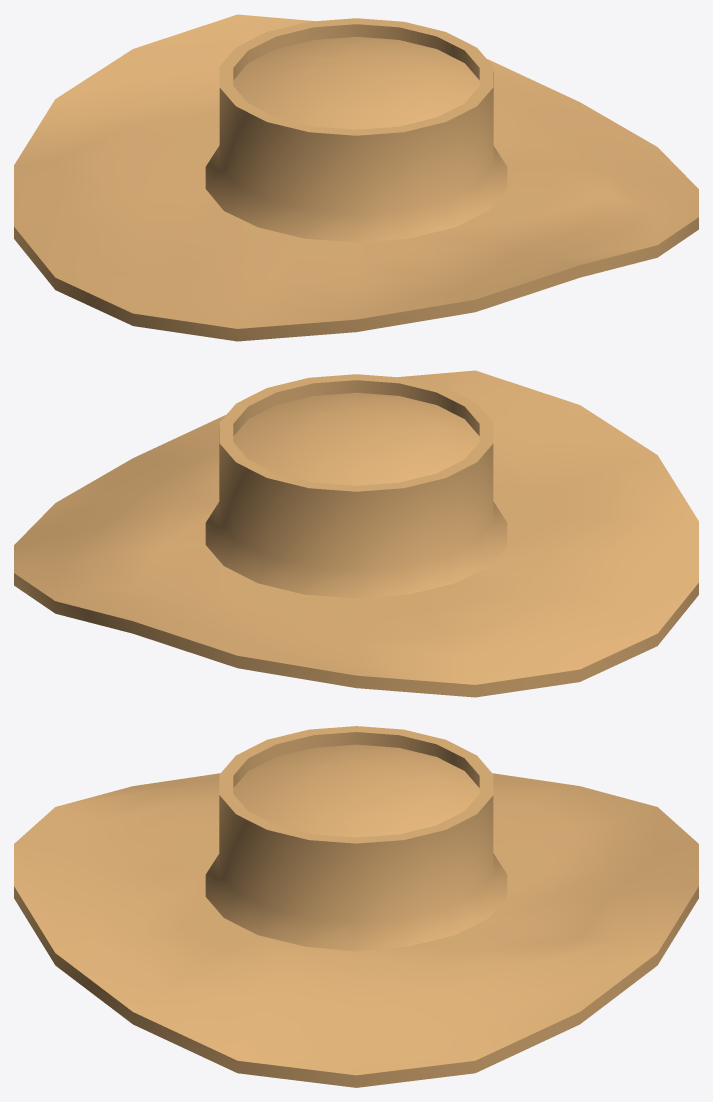
The model's file is cowboy-hat-get-gains.fbx.
The picture shows the model from 3 angles, top to bottom: view 1: azimuth 30°, elevation 25°; view 2: azimuth 150°, elevation 25°; view 3: azimuth 270°, elevation 25°; orthographic projection.
Parts seen in each view (by area): view 1: Hat; view 2: Hat; view 3: Hat.
Boxes of the visible parts, box(x1,y1,x2,y2) form: Hat: box(14, 14, 698, 341); Hat: box(14, 370, 698, 697); Hat: box(14, 726, 698, 1087).
Size of the model in its own units: 50 by 12.87 by 49.24.
